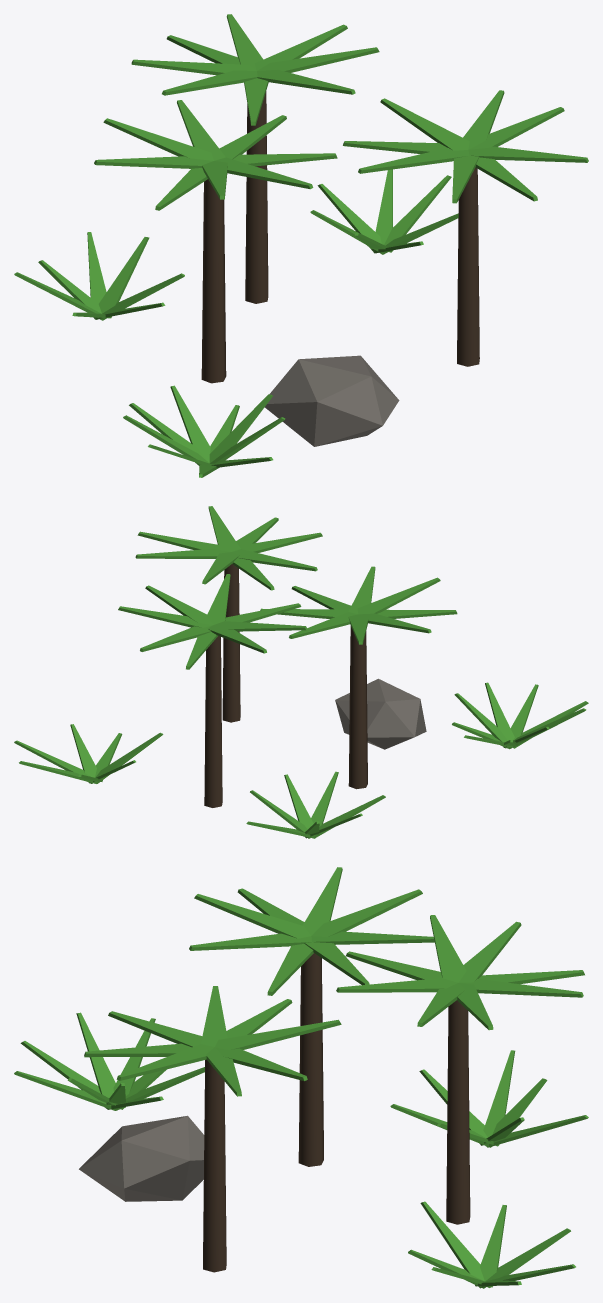
The model's file is sawyer_fern_gully_b.glb.
3 views of the same model, one above another, from view 1: azimuth 30°, elevation 25°; view 2: azimuth 150°, elevation 25°; view 3: azimuth 270°, elevation 25° (orthographic). The views are drawn at different scales.
Parts seen in each view (by area): view 1: rock_5_rock, treefern_2_trunk, treefern_0_trunk, treefern_1_trunk, treefern_0_frond0, treefern_2_frond2, treefern_0_frond5, treefern_1_frond4, treefern_0_frond2, treefern_1_frond0, treefern_2_frond3, treefern_0_frond6 (+26 smaller); view 2: rock_5_rock, treefern_1_trunk, treefern_2_trunk, treefern_0_trunk, treefern_2_frond5, treefern_1_frond1, treefern_1_frond5, treefern_0_frond2, treefern_1_frond4, treefern_0_frond7, treefern_1_frond3, treefern_0_frond3 (+24 smaller); view 3: rock_5_rock, treefern_1_trunk, treefern_2_trunk, treefern_0_trunk, treefern_2_frond5, treefern_0_frond0, treefern_2_frond2, treefern_1_frond3, treefern_2_frond6, treefern_2_frond1, treefern_1_frond6, treefern_1_frond1 (+28 smaller).
Boxes of the visible parts, x1,y1,x2,y2 form: rock_5_rock: [265, 355, 399, 446]; treefern_2_trunk: [201, 179, 226, 383]; treefern_0_trunk: [457, 167, 479, 366]; treefern_1_trunk: [245, 91, 268, 303]; treefern_0_frond0: [380, 98, 469, 150]; treefern_2_frond2: [103, 118, 213, 160]; treefern_0_frond5: [468, 146, 588, 162]; treefern_1_frond4: [257, 47, 379, 72]; treefern_0_frond2: [358, 148, 469, 173]; treefern_1_frond0: [131, 59, 256, 75]; treefern_2_frond3: [94, 156, 212, 168]; treefern_0_frond6: [469, 107, 564, 149]; rock_5_rock: [335, 678, 426, 749]; treefern_1_trunk: [204, 636, 222, 807]; treefern_2_trunk: [348, 626, 367, 789]; treefern_0_trunk: [222, 564, 240, 722]; treefern_2_frond5: [357, 577, 440, 614]; treefern_1_frond1: [214, 621, 307, 631]; treefern_1_frond5: [118, 606, 212, 627]; treefern_0_frond2: [232, 549, 317, 571]; treefern_1_frond4: [145, 585, 212, 624]; treefern_0_frond7: [135, 548, 230, 558]; treefern_1_frond3: [206, 574, 230, 624]; treefern_0_frond3: [239, 532, 322, 552]; rock_5_rock: [79, 1115, 204, 1201]; treefern_1_trunk: [446, 1000, 470, 1224]; treefern_2_trunk: [298, 953, 323, 1166]; treefern_0_trunk: [203, 1059, 226, 1272]; treefern_2_frond5: [194, 894, 310, 938]; treefern_0_frond0: [215, 1019, 341, 1049]; treefern_2_frond2: [312, 889, 422, 936]; treefern_1_frond3: [336, 978, 457, 992]; treefern_2_frond6: [189, 933, 311, 950]; treefern_2_frond1: [311, 931, 434, 944]; treefern_1_frond6: [460, 979, 583, 997]; treefern_1_frond1: [430, 915, 466, 982].
Size of the model in its own units: 4.62 by 2.14 by 4.29.
